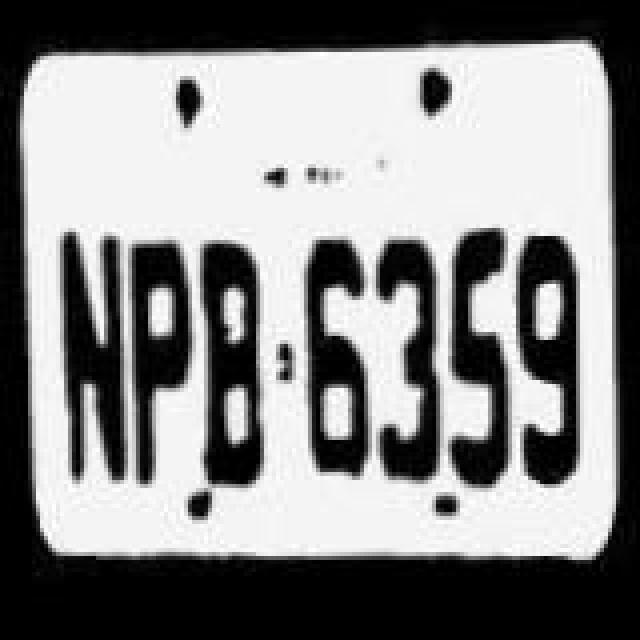3: (370, 236, 450, 488)
5: (442, 232, 514, 496)
6: (306, 232, 378, 496)
9: (512, 226, 588, 498)
B: (198, 244, 278, 492)
N: (50, 206, 130, 486)
P: (130, 218, 202, 486)
